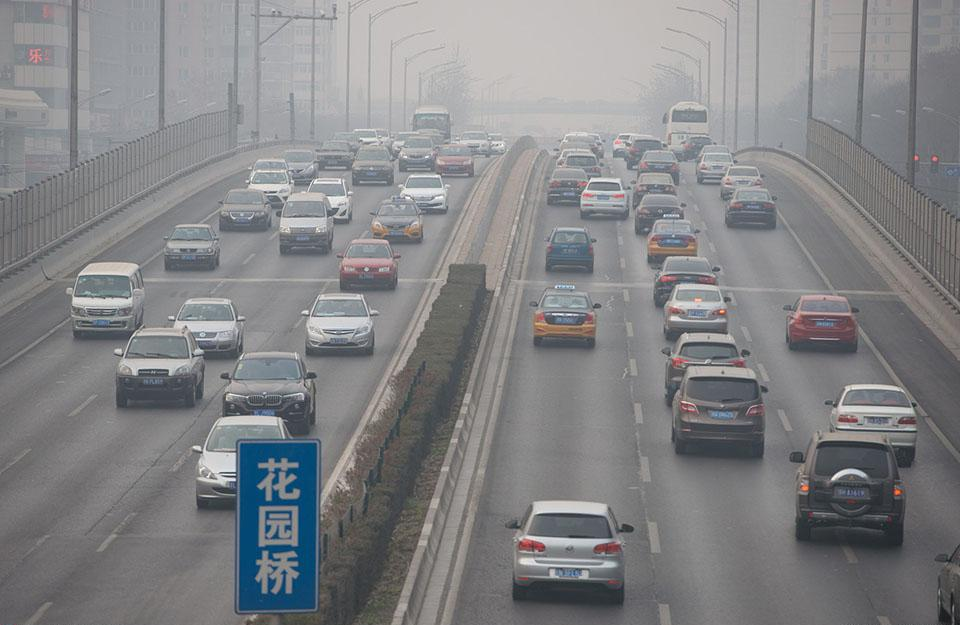bus: (663, 100, 709, 156), (408, 107, 455, 155)
car: (788, 427, 907, 549), (504, 499, 635, 606), (189, 414, 299, 508), (668, 363, 769, 458), (219, 350, 320, 438), (823, 381, 921, 470), (111, 323, 208, 409), (661, 330, 752, 405), (64, 260, 147, 338), (528, 281, 603, 353), (300, 292, 381, 357), (781, 294, 860, 354), (168, 297, 247, 357), (273, 192, 341, 257), (661, 281, 734, 338), (651, 255, 722, 308), (336, 239, 401, 292), (645, 211, 701, 265), (370, 194, 429, 245), (542, 225, 598, 273), (722, 186, 780, 232), (163, 224, 221, 270), (579, 176, 632, 222), (634, 192, 688, 237), (397, 172, 452, 216), (931, 542, 960, 625), (216, 188, 273, 230), (307, 176, 354, 224), (243, 167, 296, 208), (630, 171, 679, 209), (544, 167, 591, 206), (349, 146, 396, 185), (396, 135, 441, 174), (718, 165, 765, 202), (635, 150, 681, 187), (246, 158, 293, 194), (278, 149, 321, 187), (432, 142, 477, 176), (624, 136, 667, 171), (694, 153, 740, 183), (556, 147, 597, 180), (562, 153, 604, 183), (314, 140, 356, 170), (453, 130, 492, 160), (680, 134, 718, 163), (697, 144, 735, 170), (331, 131, 364, 160), (350, 127, 383, 155), (390, 130, 422, 158), (611, 132, 644, 159), (481, 131, 511, 158), (557, 131, 590, 155), (581, 132, 607, 159), (370, 126, 392, 154)
